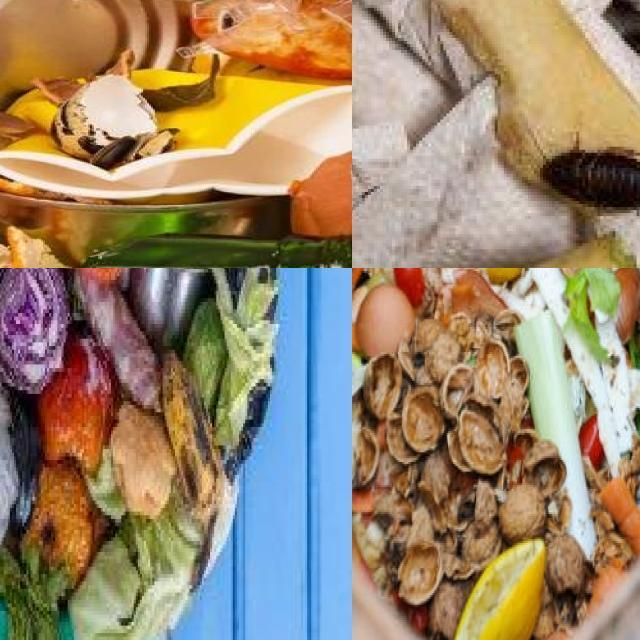Garbage: (352, 268, 640, 640), (0, 268, 277, 640), (352, 0, 640, 268)
Glass_bottle: (86, 234, 352, 268)
Metal: (128, 268, 209, 352)
contaminated_waste: (128, 268, 209, 351)
